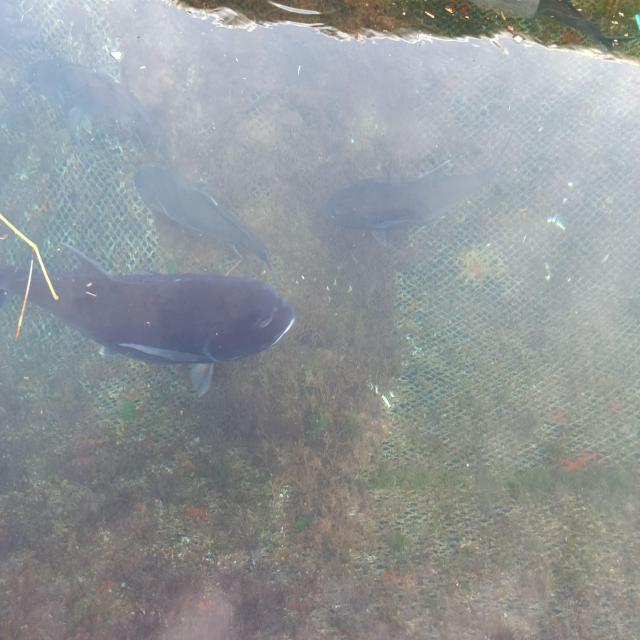ikan: (2, 243, 296, 387)
